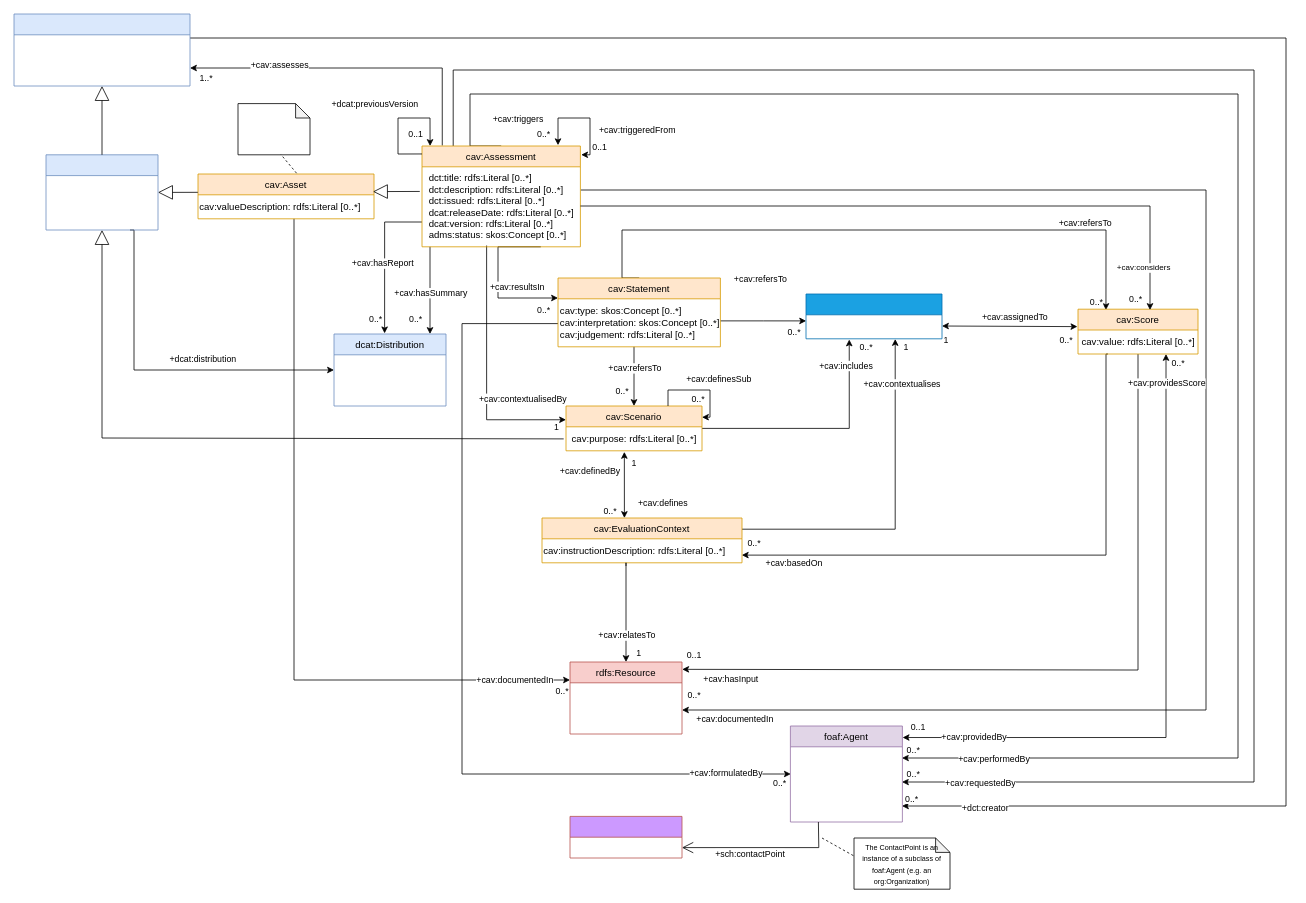
Some shapes in this 1306 by 903 pixel diagram are drawn without their labels. The shapes that lost their labels are listed below. From the top down, each one's centre as x and y in pixels, then its label:
point (101, 49): dcat:Resource
point (273, 129): This is an ADMS Asset
point (101, 192): dcat:Dataset
point (873, 316): cccev:Criterion
point (625, 837): sch:ContactPoint
